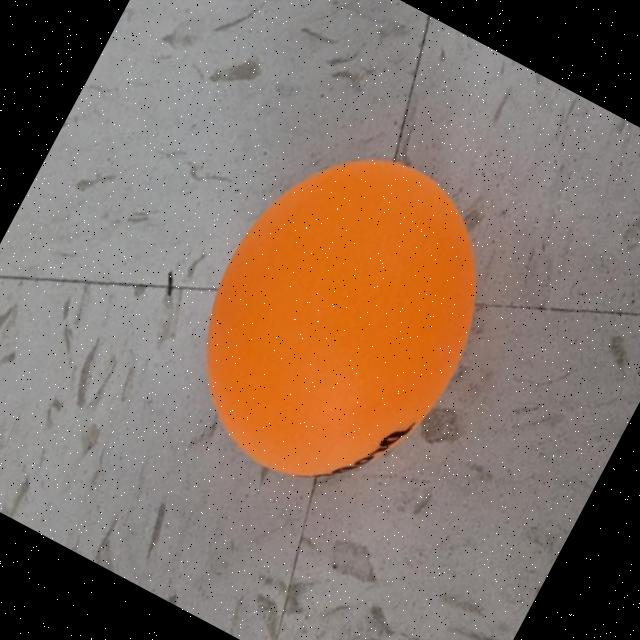ping-pong-ball: (138, 98, 538, 534)
